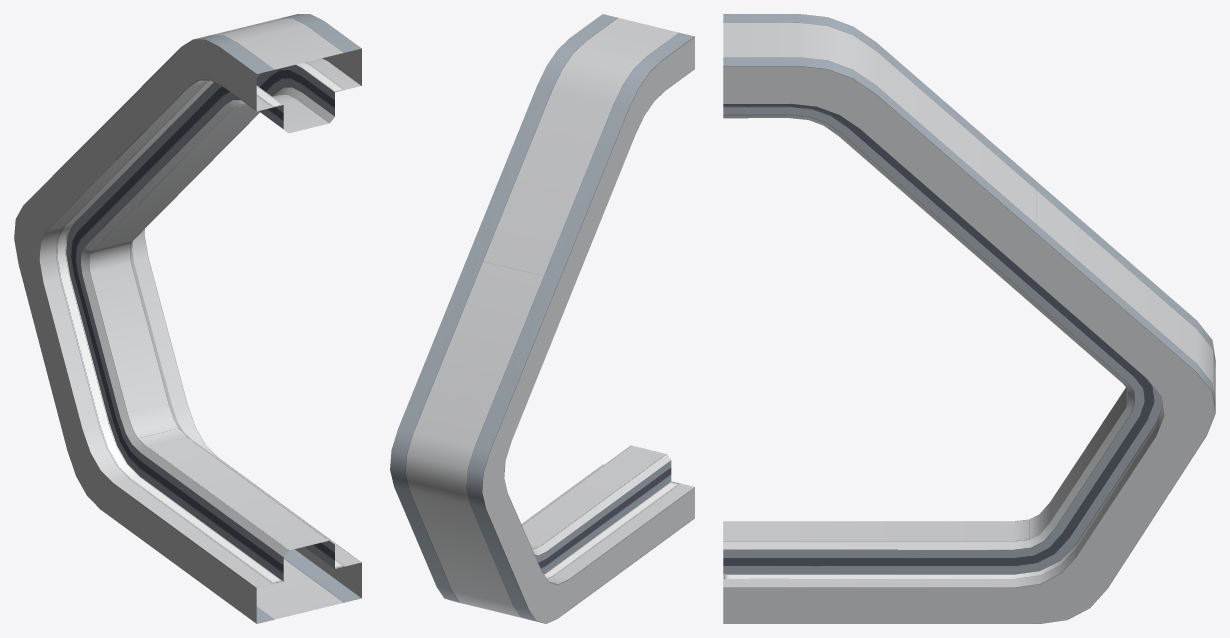
File: Column_01.FBX
The picture shows the model from 3 angles, left to right: view 1: azimuth 30°, elevation 25°; view 2: azimuth 150°, elevation 25°; view 3: azimuth 270°, elevation 25°; orthographic projection. The views are drawn at different scales.
Parts seen in each view (by area): view 1: Column_01; view 2: Column_01; view 3: Column_01.
Part boxes in pixels (x1=…): Column_01: x1=14, y1=14, x2=361, y2=623; Column_01: x1=390, y1=14, x2=694, y2=623; Column_01: x1=723, y1=14, x2=1215, y2=623.
Bounding box in the file's own units: 1 × 5 × 4.
1 material, 1 textured.
